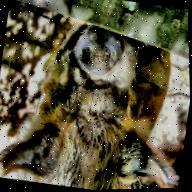boar: (0, 28, 187, 192)
